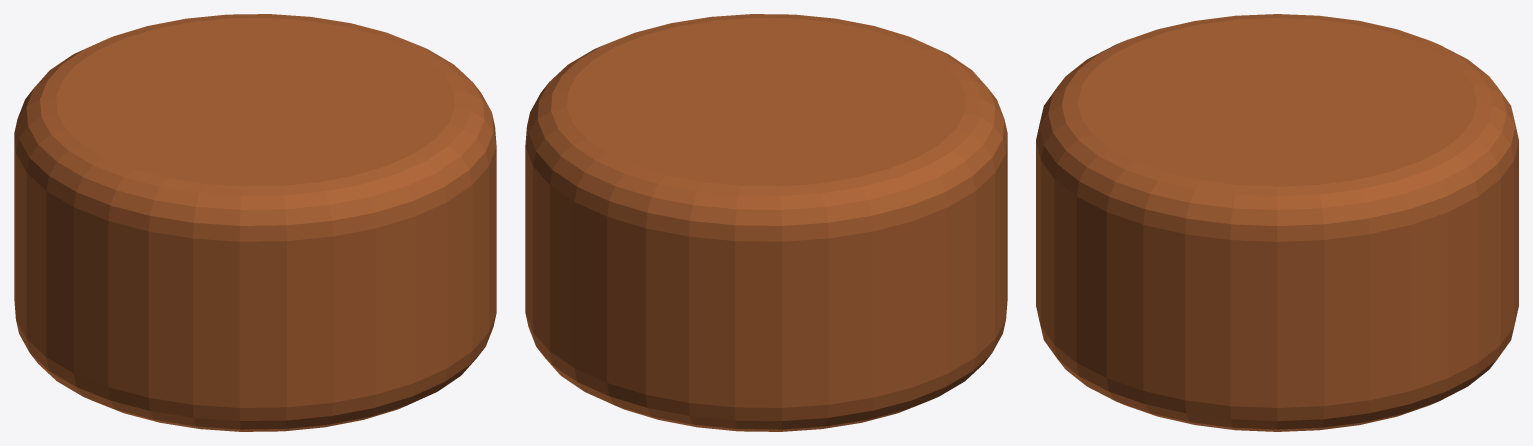
The model's file is round_chair.glb.
The picture shows the model from 3 angles, left to right: view 1: azimuth 30°, elevation 25°; view 2: azimuth 150°, elevation 25°; view 3: azimuth 270°, elevation 25°; orthographic projection.
Visible parts, largest first — view 1: round_chair-col; view 2: round_chair-col; view 3: round_chair-col.
Part boxes in pixels (bbox=[...]): round_chair-col: bbox=[14, 14, 496, 431]; round_chair-col: bbox=[525, 14, 1007, 431]; round_chair-col: bbox=[1036, 14, 1518, 431].
Size of the model in its own units: 0.6551 by 0.3614 by 0.6551.
